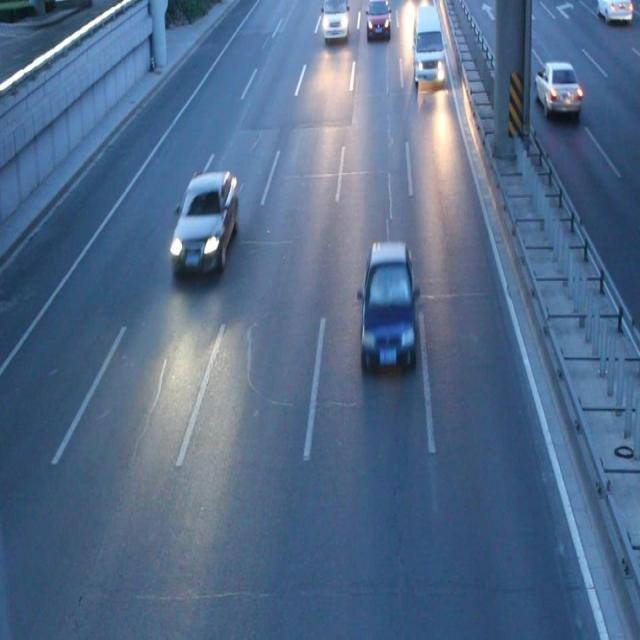car: (356, 243, 418, 373), (167, 170, 238, 278), (365, 1, 390, 39)
truck: (413, 11, 443, 84), (321, 1, 348, 38)
